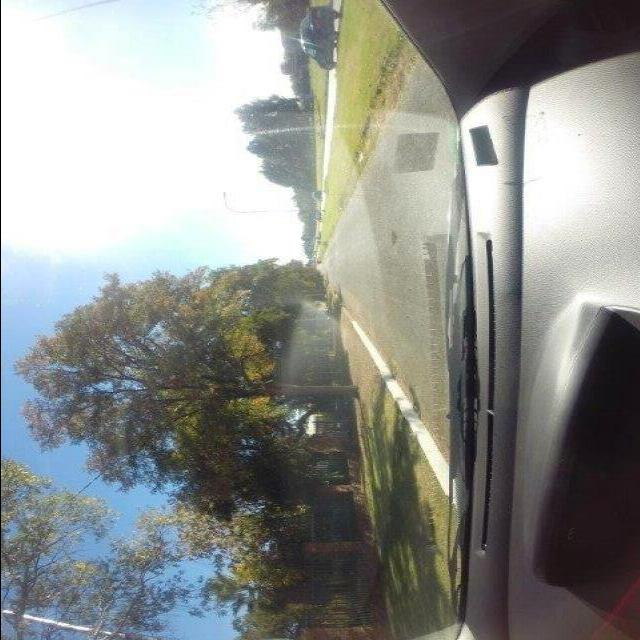lubang: (382, 229, 396, 253)
